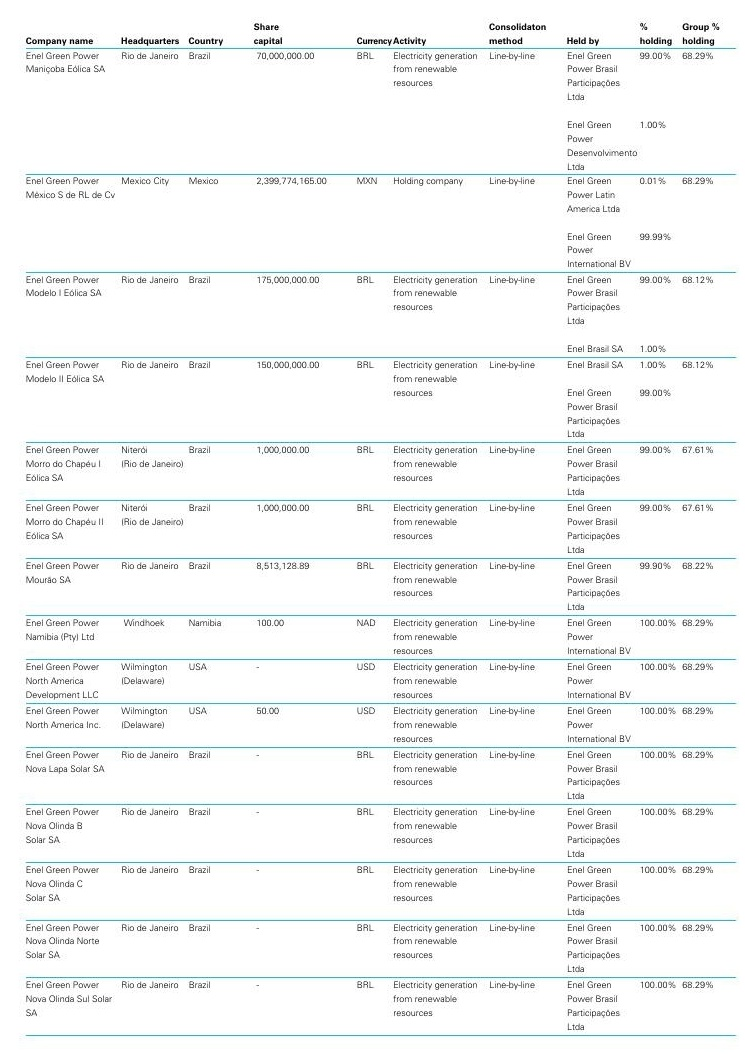table: (0, 0, 745, 1054)
